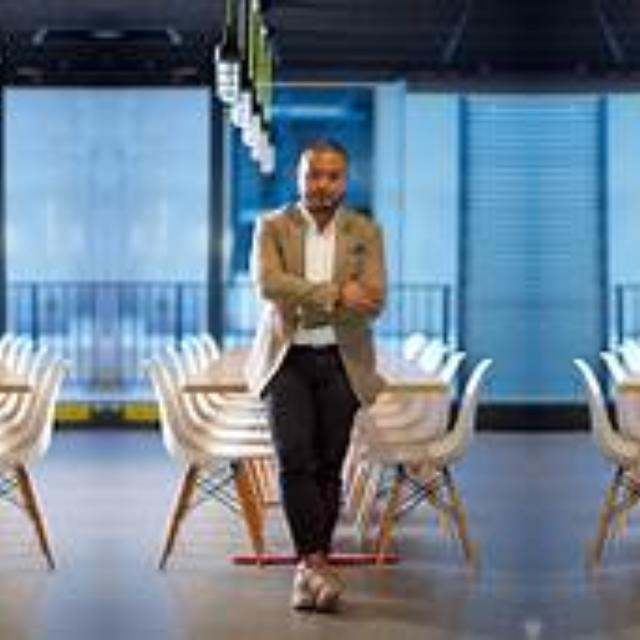person: (242, 142, 401, 640)
